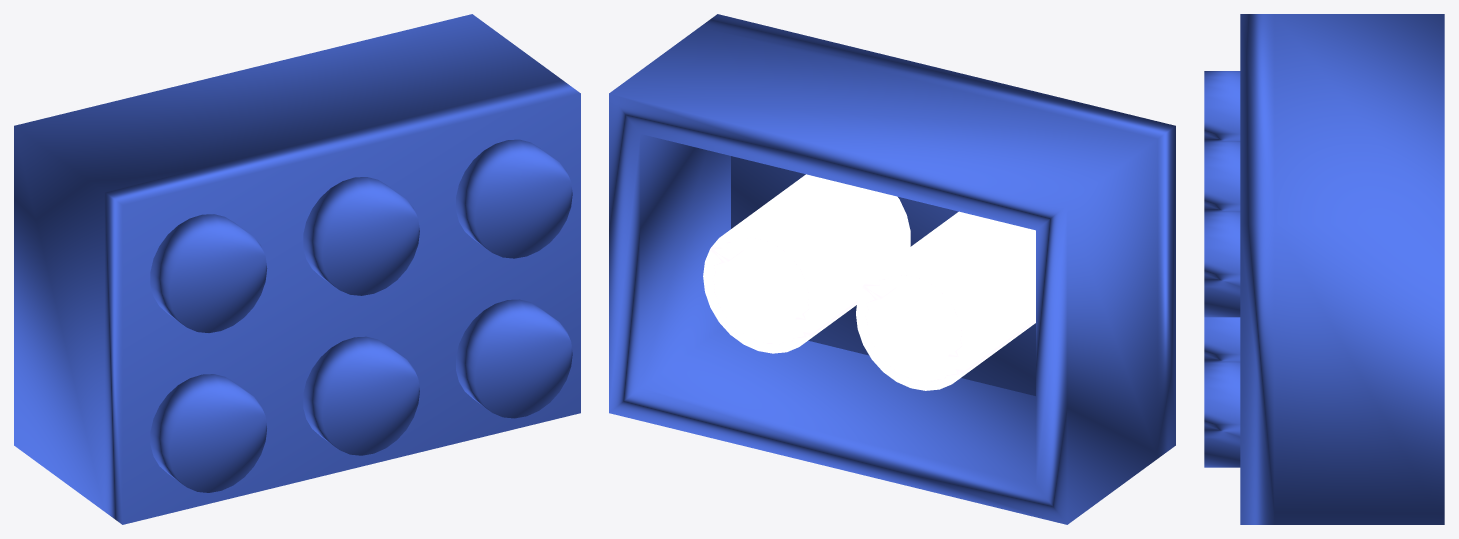
Rendered from legobrick.glb.
3 views of the same model, side by side, from view 1: azimuth 30°, elevation 25°; view 2: azimuth 150°, elevation 25°; view 3: azimuth 270°, elevation 25° (orthographic). The views are drawn at different scales.
Visible parts, largest first — view 1: child_1; view 2: child_1, child_2; view 3: child_1.
Part boxes in pixels (left/top/right/bottom): child_1: left=14, top=14, right=580, bottom=524; child_1: left=609, top=14, right=1175, bottom=524; child_2: left=703, top=174, right=1035, bottom=390; child_1: left=1204, top=14, right=1444, bottom=524.
Size of the model in its own units: 75 by 50 by 36.22.
